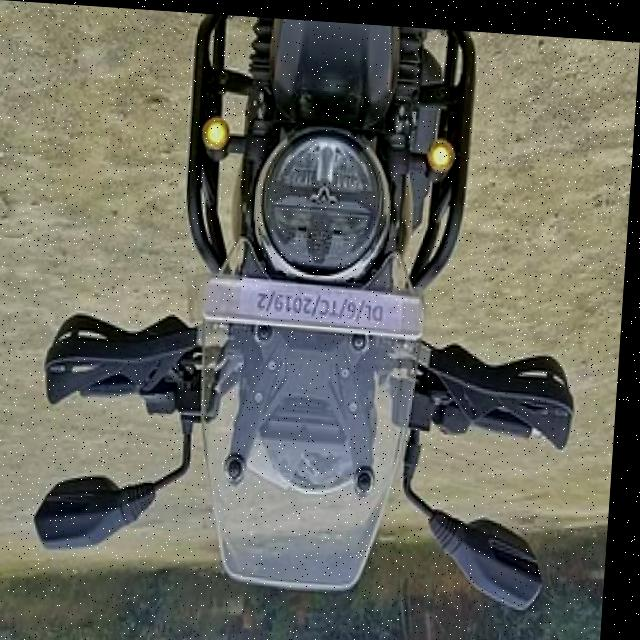plate: (186, 269, 440, 331)
